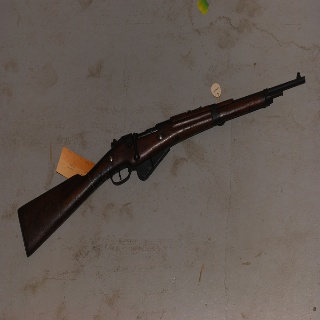rifle: (17, 71, 307, 257)
